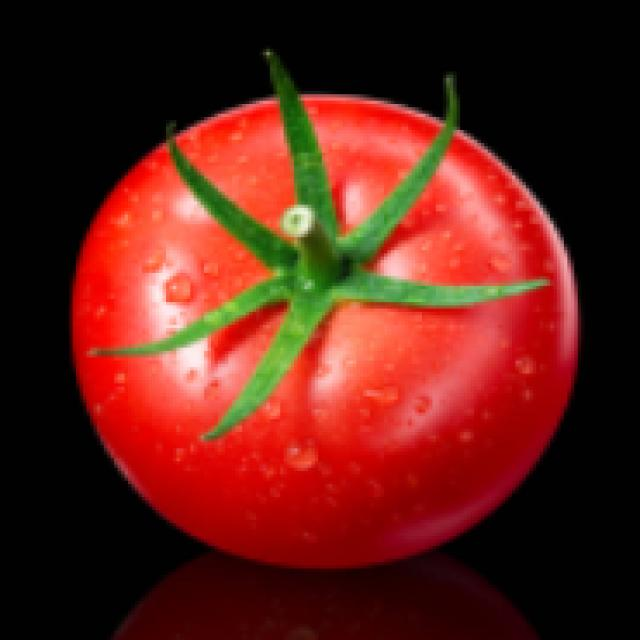Tomato: (51, 58, 587, 571)
